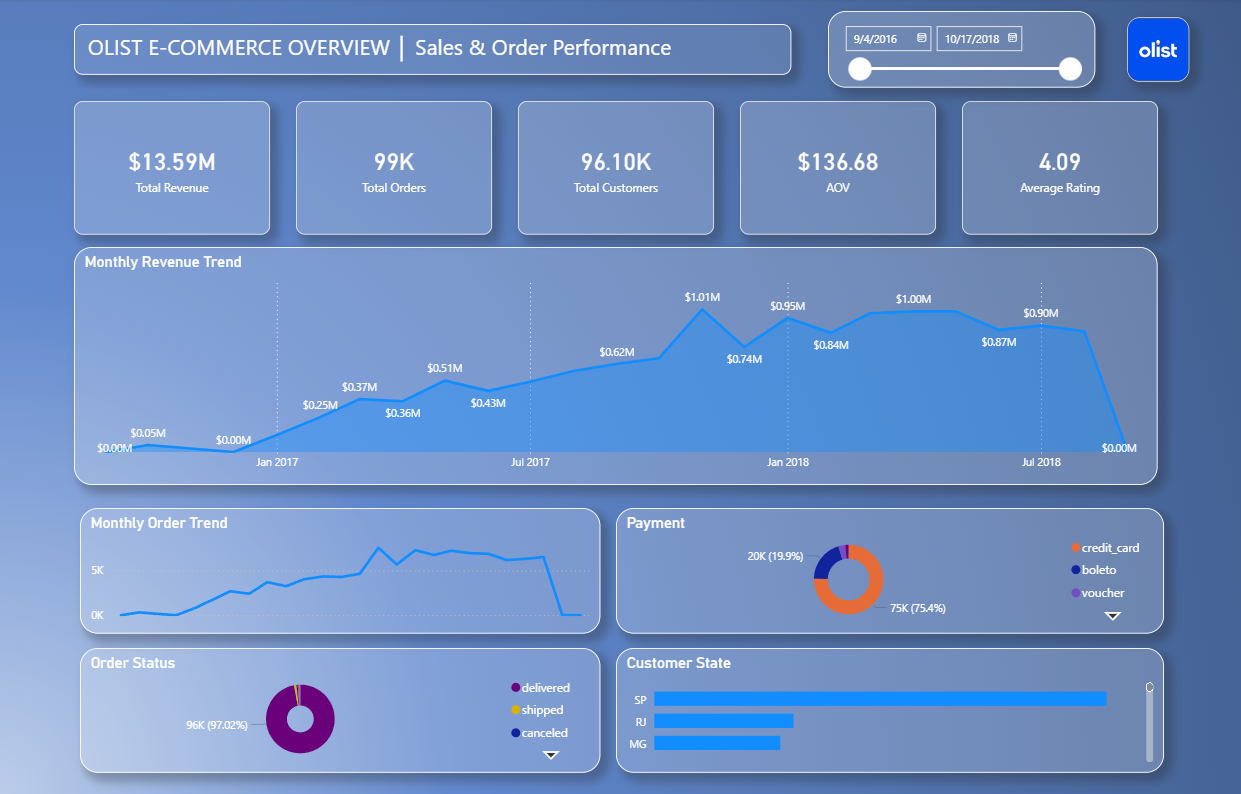

This screenshot's page, from the dashboard's own definition file:
{"tool":"powerbi","page":{"name":"Overview","canvas":[1400,900],"ordinal":0},"visuals":[{"type":"textbox","box":[84.8,29.6,805.3,56.6],"z":0},{"type":"card","fields":{"Values":["v_orders.Total Revenue"]},"box":[84.8,115.8,220,149.9],"z":1000},{"type":"card","fields":{"Values":["v_orders.Total Customers"]},"box":[583.5,115.8,220,149.9],"z":2000},{"type":"card","fields":{"Values":["v_orders.Total Orders"]},"box":[334.2,115.8,220,149.9],"z":3000},{"type":"card","fields":{"Values":["v_orders.Average Order Value"]},"box":[832.9,115.8,220,149.9],"z":4000},{"type":"image","box":[1267,21.3,69.6,72.9],"z":5000},{"type":"card","fields":{"Values":["v_orders.Average Rating"]},"box":[1082.2,115.8,220,149.9],"z":6000},{"type":"lineChart","title":"Monthly Revenue Trend","fields":{"Category":["v_orders.Year Month"],"Y":["v_orders.Total Revenue"]},"box":[85.3,279.4,1216.5,267.1],"z":7000},{"type":"lineChart","title":"Monthly Order Trend","fields":{"Category":["v_orders.Year Month"],"Y":["v_orders.Total Orders"]},"box":[92,572.3,583.5,141.4],"z":8000},{"type":"pieChart","title":"Order Status","fields":{"Category":["v_orders.order_status"],"Y":["v_orders.Total Orders"]},"box":[92,729.4,583.5,140.3],"z":9000},{"type":"donutChart","title":"Payment","fields":{"Category":["v_orders.main_payment_type"],"Y":["v_orders.Total Orders"]},"box":[693.4,572.3,615,141.4],"z":10000},{"type":"barChart","title":"Customer State","fields":{"Category":["v_orders.customer_state"],"Y":["v_orders.Total Orders"]},"box":[693.4,729.4,615,140.3],"z":11000},{"type":"slicer","fields":{"Values":["v_orders.order_date"]},"box":[931.4,14.6,299.6,86.4],"z":12000}]}

Visuals, with their boxes in screenshot pixels (x1, y1, x2, y2), scaled from the page's 1400x900 canvas onto the 1241x794 screenshot:
textbox: region(75, 26, 789, 76)
card - v_orders.Total Revenue: region(75, 102, 270, 234)
card - v_orders.Total Customers: region(517, 102, 712, 234)
card - v_orders.Total Orders: region(296, 102, 491, 234)
card - v_orders.Average Order Value: region(738, 102, 933, 234)
image: region(1123, 19, 1185, 83)
card - v_orders.Average Rating: region(959, 102, 1154, 234)
"Monthly Revenue Trend" lineChart: region(76, 246, 1154, 482)
"Monthly Order Trend" lineChart: region(82, 505, 599, 630)
"Order Status" pieChart: region(82, 643, 599, 767)
"Payment" donutChart: region(615, 505, 1160, 630)
"Customer State" barChart: region(615, 643, 1160, 767)
slicer - v_orders.order_date: region(826, 13, 1091, 89)
